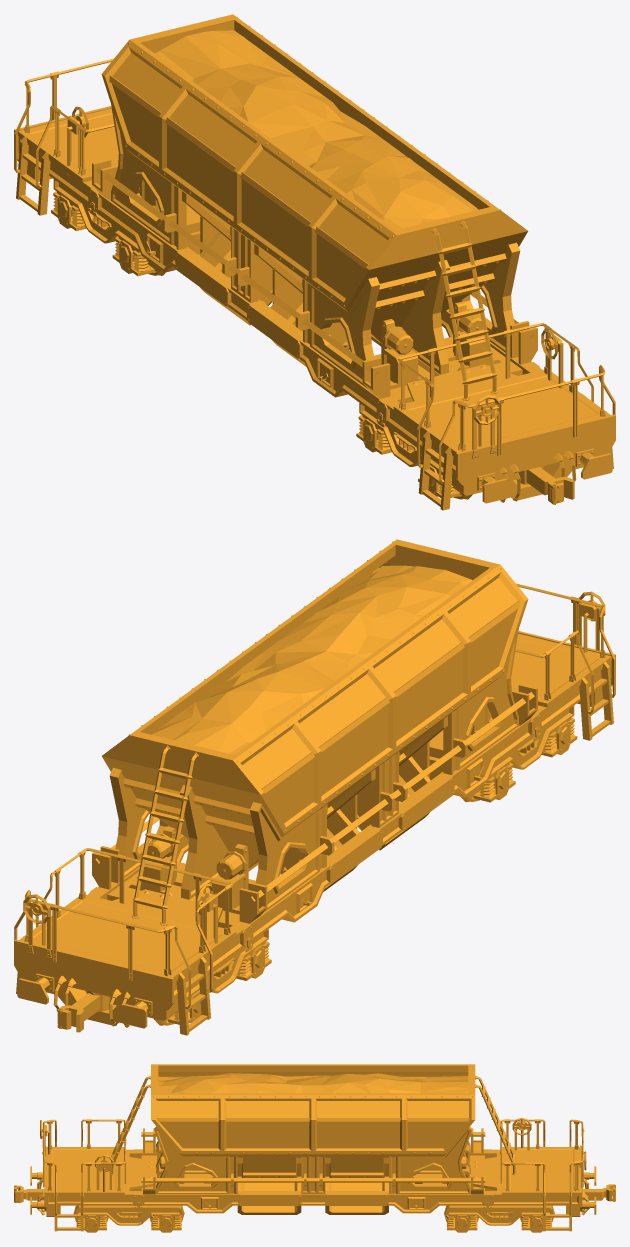
File: SM_Train_Wagon_Cargo_B_Sand.fbx
3 renders of one model, top to bottom at view 1: azimuth 30°, elevation 25°; view 2: azimuth 150°, elevation 25°; view 3: azimuth 270°, elevation 25°, orthographic. The views are drawn at different scales.
Parts seen in each view (by area): view 1: SM_Train_Wagon_Cargo_B_Sand_Base, SM_Train_Wagon_Cargo_B_Sand_Base_Chassis_B, SM_Train_Wagon_Cargo_B_Sand_Base_Chassis_F, SM_Train_Wagon_Cargo_B_Sand_Base_Joint_F; view 2: SM_Train_Wagon_Cargo_B_Sand_Base, SM_Train_Wagon_Cargo_B_Sand_Base_Chassis_F, SM_Train_Wagon_Cargo_B_Sand_Base_Chassis_B, SM_Train_Wagon_Cargo_B_Sand_Base_Joint_B; view 3: SM_Train_Wagon_Cargo_B_Sand_Base, SM_Train_Wagon_Cargo_B_Sand_Base_Chassis_F, SM_Train_Wagon_Cargo_B_Sand_Base_Chassis_B, SM_Train_Wagon_Cargo_B_Sand_Base_Joint_B, SM_Train_Wagon_Cargo_B_Sand_Base_Joint_F.
Part boxes in pixels (x1=…): SM_Train_Wagon_Cargo_B_Sand_Base: x1=14, y1=14, x2=615, y2=510; SM_Train_Wagon_Cargo_B_Sand_Base_Chassis_B: x1=51, y1=179, x2=200, y2=276; SM_Train_Wagon_Cargo_B_Sand_Base_Chassis_F: x1=356, y1=403, x2=460, y2=497; SM_Train_Wagon_Cargo_B_Sand_Base_Joint_F: x1=516, y1=467, x2=574, y2=504; SM_Train_Wagon_Cargo_B_Sand_Base: x1=14, y1=539, x2=615, y2=1035; SM_Train_Wagon_Cargo_B_Sand_Base_Chassis_F: x1=429, y1=705, x2=577, y2=802; SM_Train_Wagon_Cargo_B_Sand_Base_Chassis_B: x1=168, y1=929, x2=271, y2=1024; SM_Train_Wagon_Cargo_B_Sand_Base_Joint_B: x1=57, y1=991, x2=110, y2=1032; SM_Train_Wagon_Cargo_B_Sand_Base: x1=30, y1=1064, x2=596, y2=1231; SM_Train_Wagon_Cargo_B_Sand_Base_Chassis_F: x1=76, y1=1205, x2=182, y2=1232; SM_Train_Wagon_Cargo_B_Sand_Base_Chassis_B: x1=446, y1=1205, x2=551, y2=1232; SM_Train_Wagon_Cargo_B_Sand_Base_Joint_B: x1=582, y1=1184, x2=615, y2=1201; SM_Train_Wagon_Cargo_B_Sand_Base_Joint_F: x1=14, y1=1185, x2=44, y2=1202.
Bounding box in the file's own units: 3.31 × 4.12 × 16.11.
